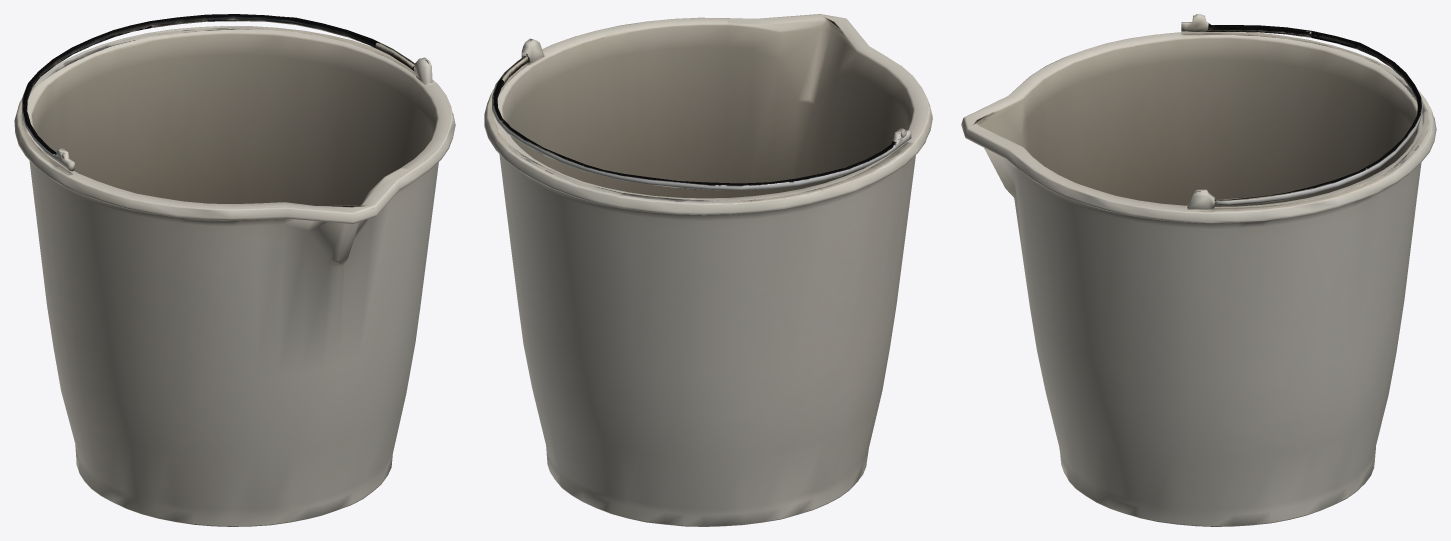
File: Meshy_AI_Bucket_Tranquility_0107154845_texture.fbx
3 renders of one model, left to right at view 1: azimuth 30°, elevation 25°; view 2: azimuth 150°, elevation 25°; view 3: azimuth 270°, elevation 25°, orthographic. The views are drawn at different scales.
Parts seen in each view (by area): view 1: Mesh_0; view 2: Mesh_0; view 3: Mesh_0.
Part boxes in pixels (left/top/right/bottom): Mesh_0: left=14, top=14, right=455, bottom=526; Mesh_0: left=484, top=14, right=932, bottom=526; Mesh_0: left=961, top=14, right=1436, bottom=526.
Bounding box in the file's own units: 175 × 158 × 190.
Materials: 1 (1 with a texture image).
